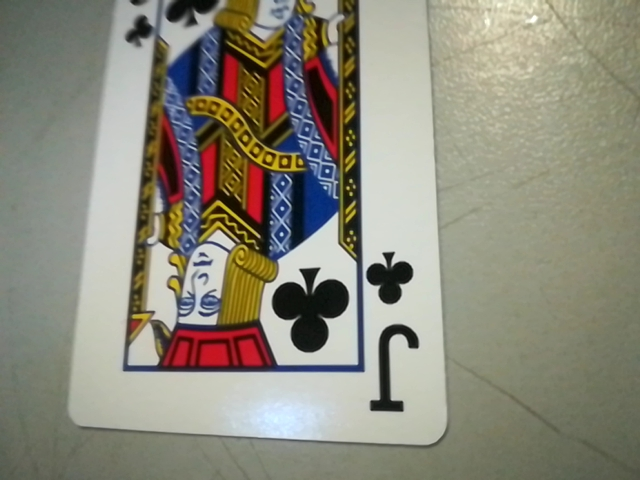mh j: (357, 244, 437, 427)
